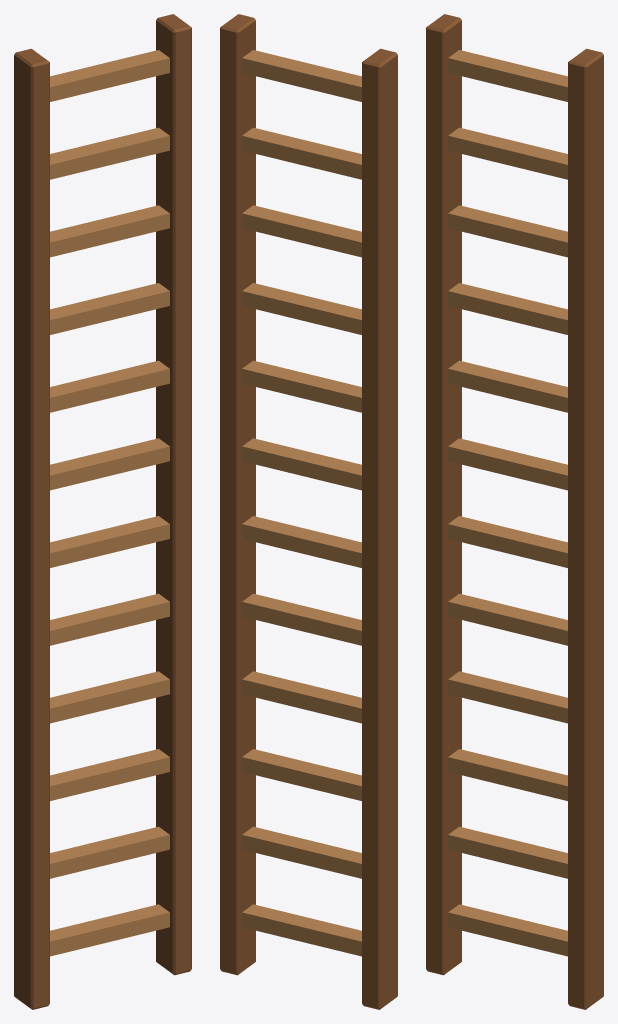
File: Ladder.fbx
The picture shows the model from 3 angles, left to right: view 1: azimuth 30°, elevation 25°; view 2: azimuth 150°, elevation 25°; view 3: azimuth 330°, elevation 25°; orthographic projection.
Parts seen in each view (by area): view 1: Ladder; view 2: Ladder; view 3: Ladder.
Part boxes in pixels (x1,y1,x2,y2): Ladder: (14, 14, 191, 1009); Ladder: (220, 14, 397, 1009); Ladder: (426, 14, 603, 1009).
Bounding box in the file's own units: 2.5 × 14 × 0.5.
